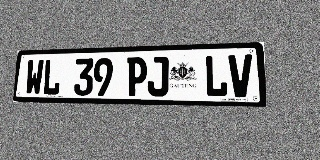3: (74, 58, 94, 96)
9: (93, 58, 113, 96)
J: (147, 56, 169, 96)
L: (205, 55, 228, 97), (42, 59, 62, 95)
P: (126, 57, 147, 96)
V: (228, 54, 253, 97)
W: (25, 59, 44, 95)
